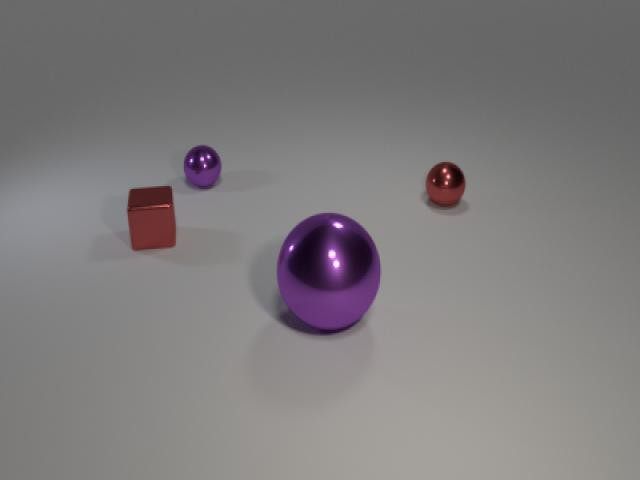round ball: (266, 204, 391, 339), (418, 155, 474, 214), (178, 142, 227, 193)
